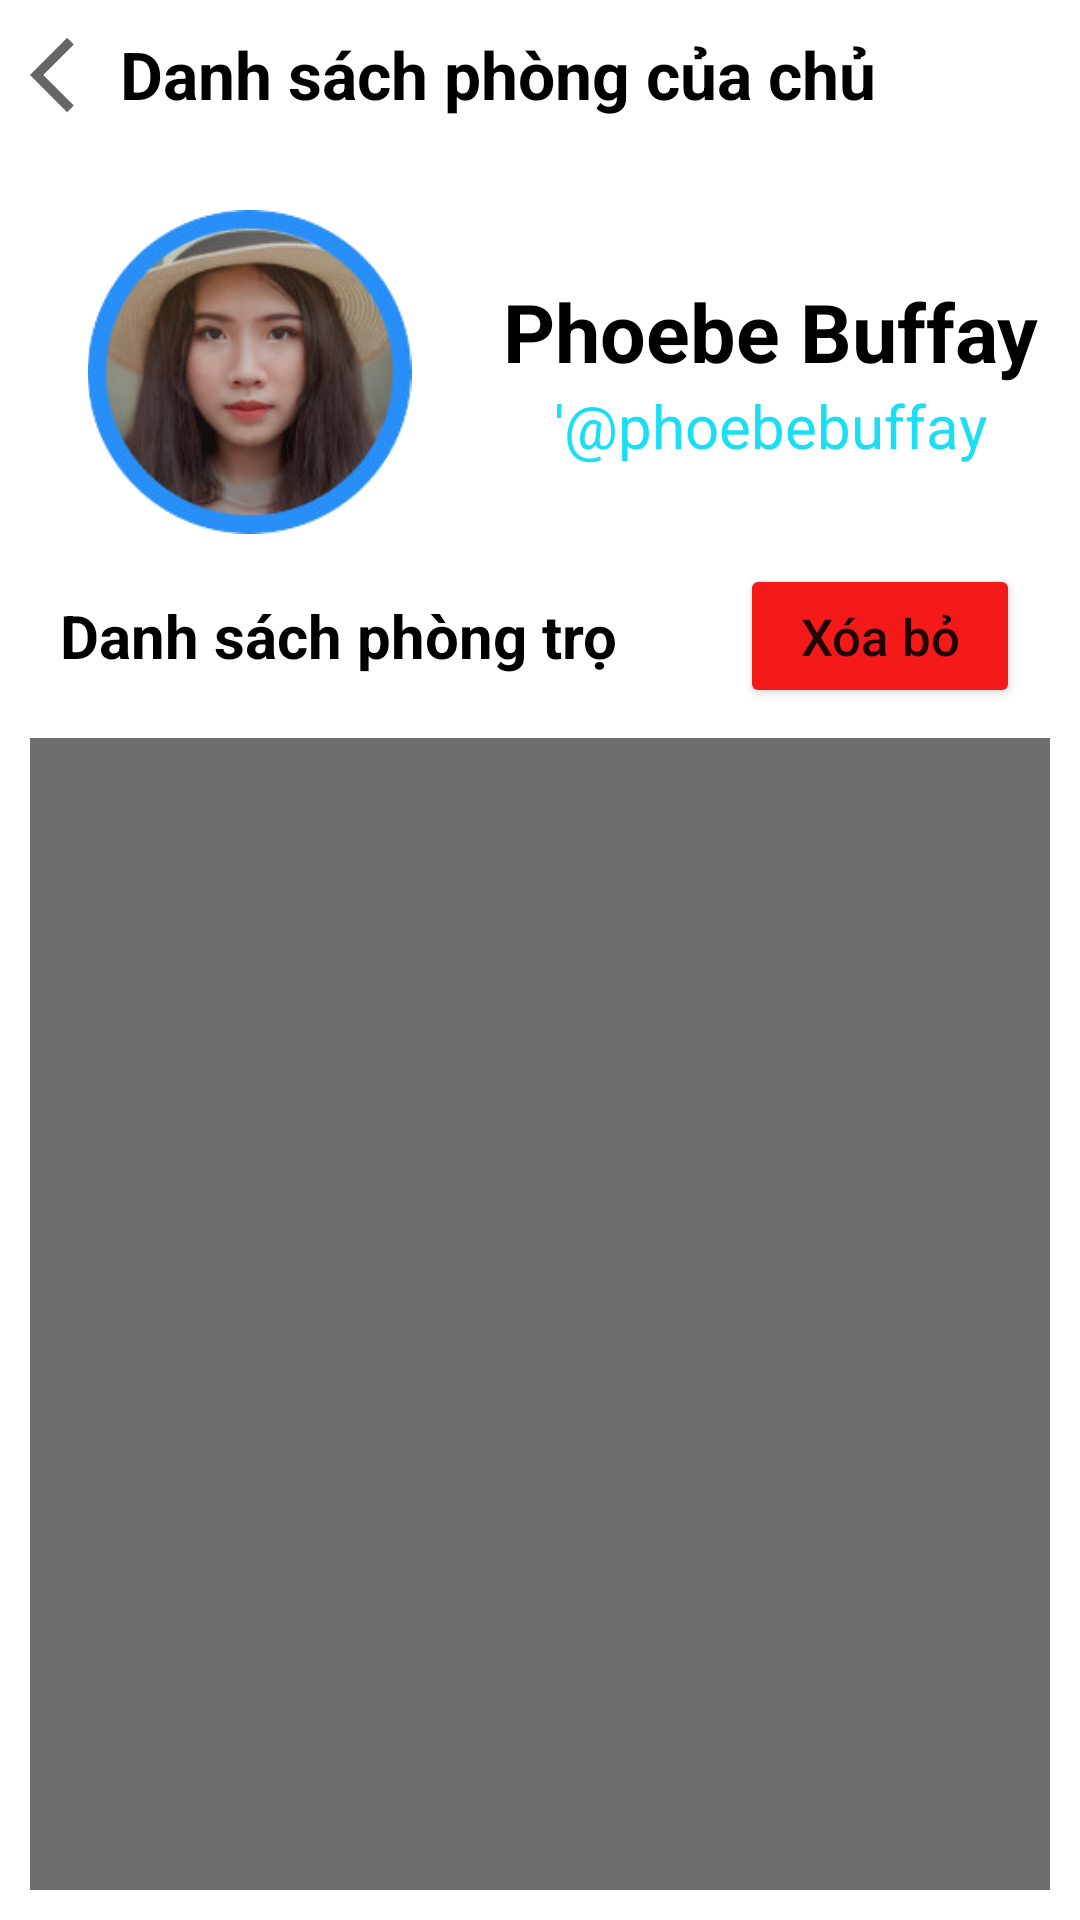

Point at icon controls on the screen. Image size 1080w x 1920h, points as (x,y).
back: (52,75)
user: (250,372)
